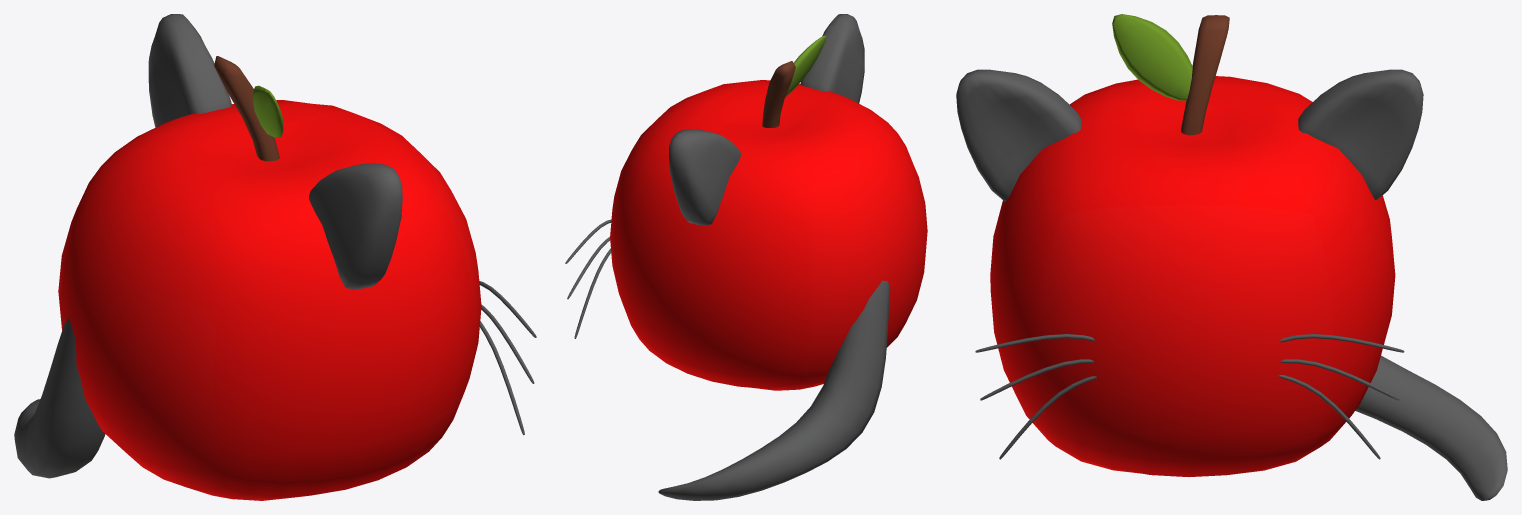
The model's file is apple_cat.fbx.
3 renders of one model, left to right at view 1: azimuth 30°, elevation 25°; view 2: azimuth 150°, elevation 25°; view 3: azimuth 270°, elevation 25°, orthographic. The views are drawn at different scales.
Visible parts, largest first — view 1: apple_standart, apple_standart.002, Sphere, apple_standart.001, Cylinder; view 2: apple_standart, Sphere, apple_standart.002, apple_standart.001, Cylinder; view 3: apple_standart, apple_standart.002, Sphere, apple_standart.001, Cylinder.
Part boxes in pixels (x1,y1,x2,y2): apple_standart: (58, 100, 481, 500); apple_standart.002: (148, 14, 402, 290); Sphere: (14, 318, 105, 478); apple_standart.001: (214, 56, 283, 161); Cylinder: (479, 281, 536, 435); apple_standart: (610, 80, 927, 390); Sphere: (658, 280, 890, 500); apple_standart.002: (668, 14, 864, 225); apple_standart.001: (762, 35, 826, 127); Cylinder: (565, 219, 611, 338); apple_standart: (990, 76, 1395, 476); apple_standart.002: (956, 69, 1423, 201); Sphere: (1355, 355, 1507, 500); apple_standart.001: (1112, 14, 1229, 135); Cylinder: (975, 334, 1404, 459).
Bounding box in the file's own units: 57.41 × 71.36 × 74.79.
